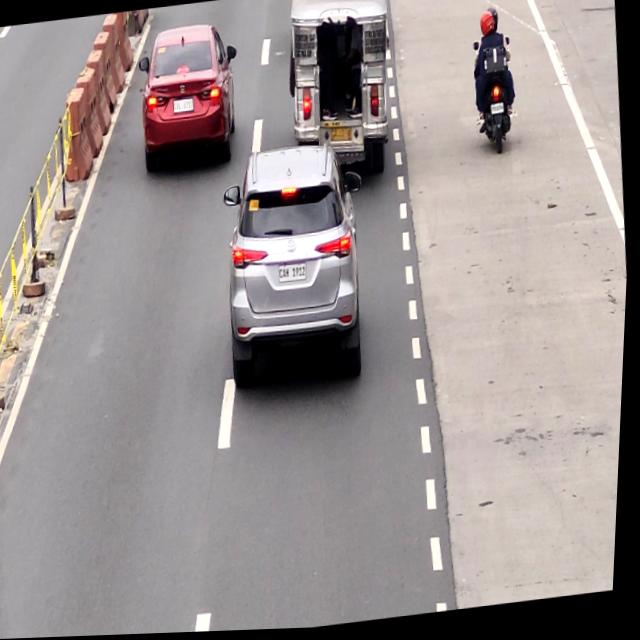Car: (213, 138, 376, 402), (137, 26, 239, 169)
Jeep: (283, 0, 395, 176)
License-Plate: (277, 262, 312, 285), (329, 125, 355, 146), (171, 98, 196, 115), (489, 104, 507, 118)
Motorcycle: (465, 9, 525, 161)
